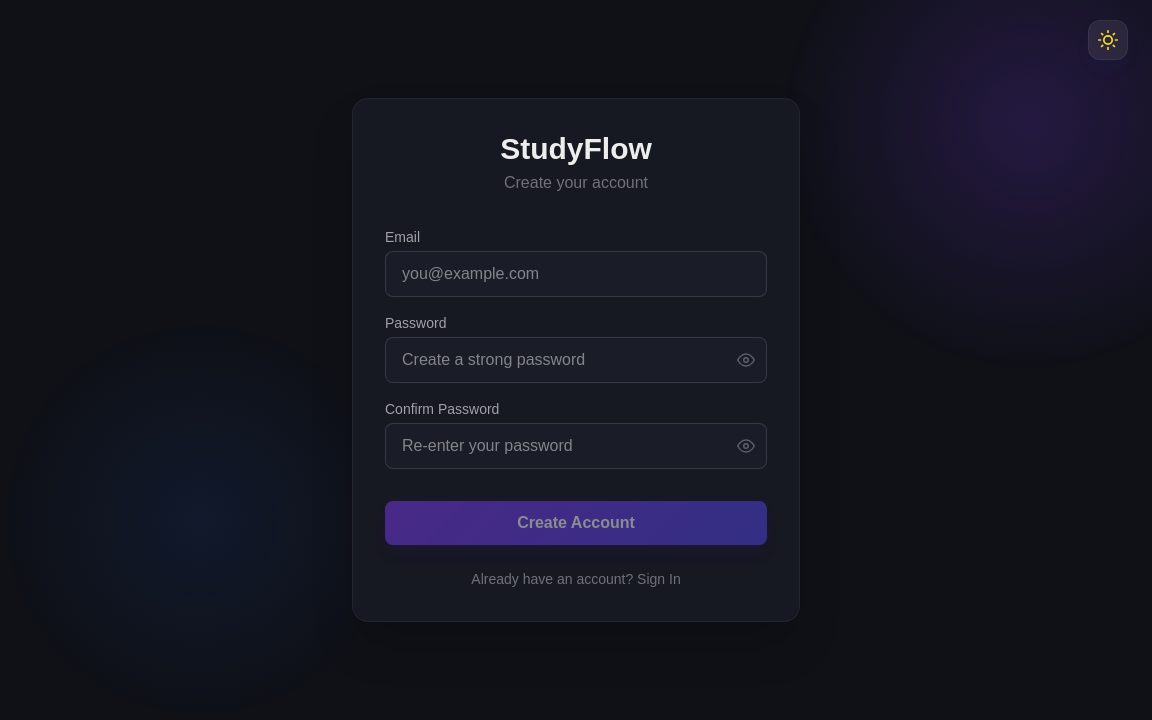
RegisterPage › shows Very strong when all rules pass
Type "StrongPass1!" into the password field with placeholder "Create a strong password" at (576, 360), box [385, 337, 767, 383]
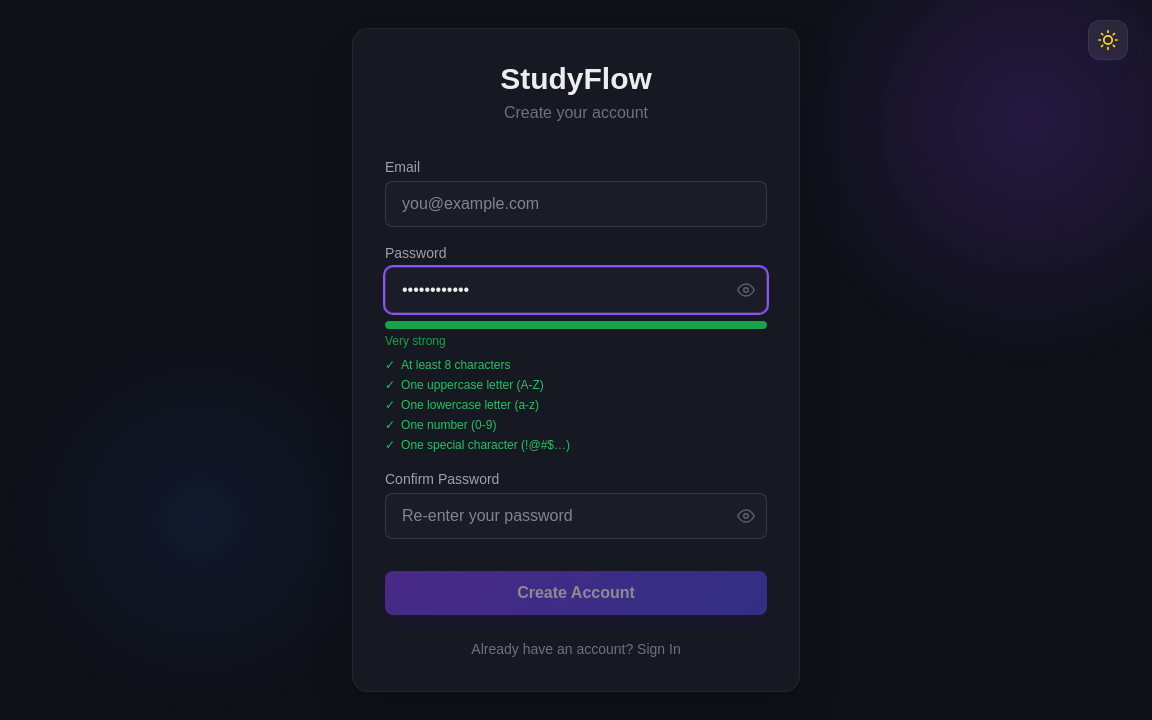
Check: the text "Very strong" is shown, box [385, 334, 446, 348]
